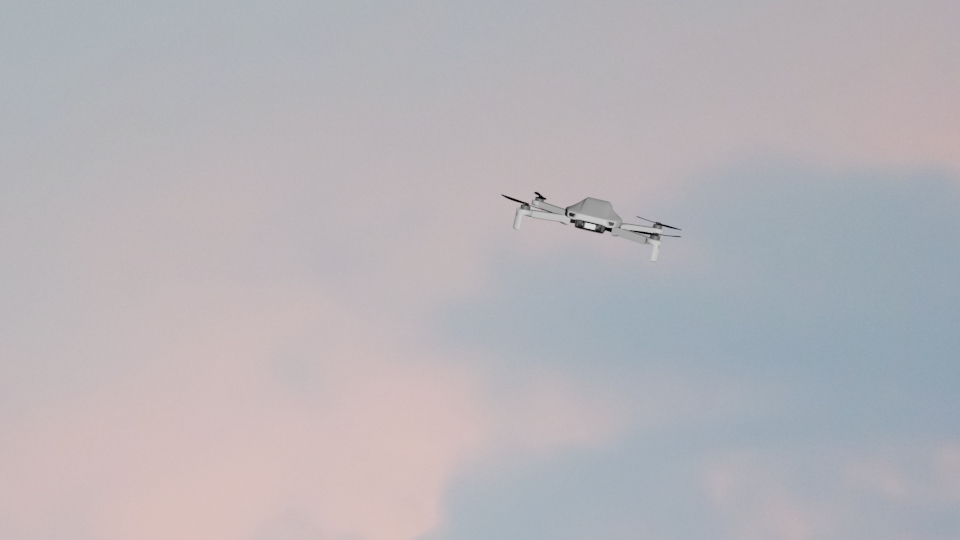drone: (501, 189, 677, 263)
